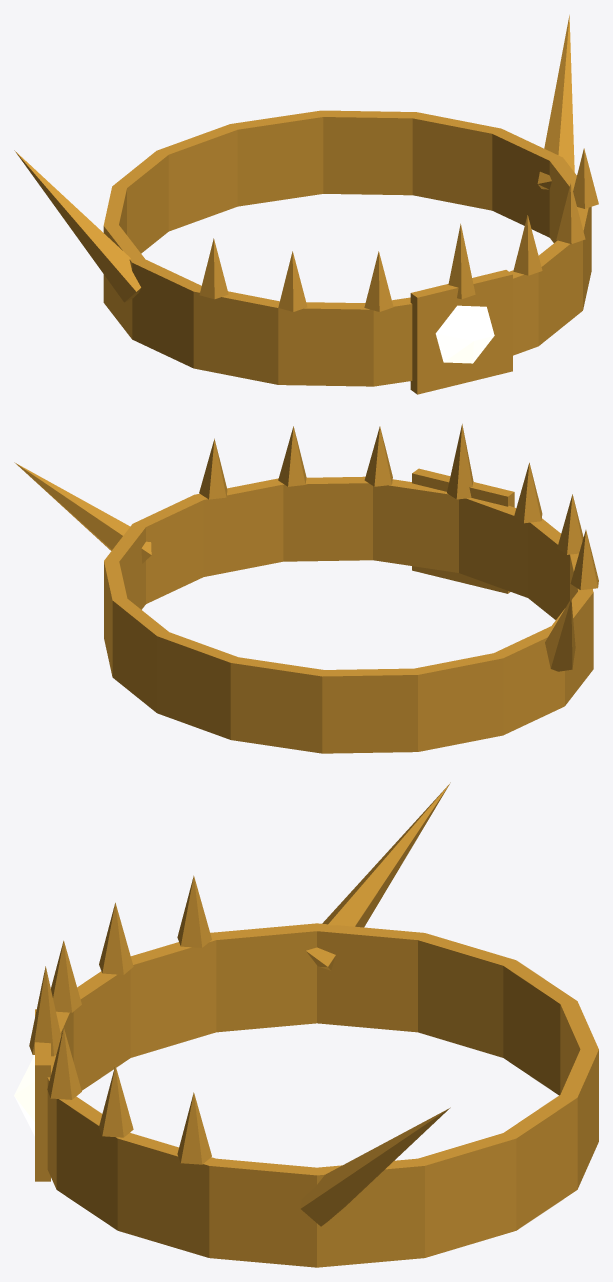
File: armor_lord_head_legendary_human.glb
The picture shows the model from 3 angles, top to bottom: view 1: azimuth 30°, elevation 25°; view 2: azimuth 150°, elevation 25°; view 3: azimuth 270°, elevation 25°; orthographic projection. The views are drawn at different scales.
Visible parts, largest first — view 1: armor_lord_head_legendary_human__head; view 2: armor_lord_head_legendary_human__head; view 3: armor_lord_head_legendary_human__head.
Part boxes in pixels (x1=…): armor_lord_head_legendary_human__head: x1=14, y1=15, x2=598, y2=394; armor_lord_head_legendary_human__head: x1=14, y1=424, x2=598, y2=753; armor_lord_head_legendary_human__head: x1=14, y1=782, x2=598, y2=1267.
Bounding box in the file's own units: 58.21 × 17.43 × 44.26.
